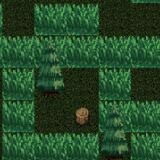Obstacle: (65, 101, 98, 132), (35, 68, 65, 101), (99, 132, 129, 160)
Slow: (0, 36, 160, 67), (2, 68, 34, 160), (33, 3, 99, 35), (99, 66, 131, 132), (130, 100, 160, 160), (34, 133, 98, 160)
